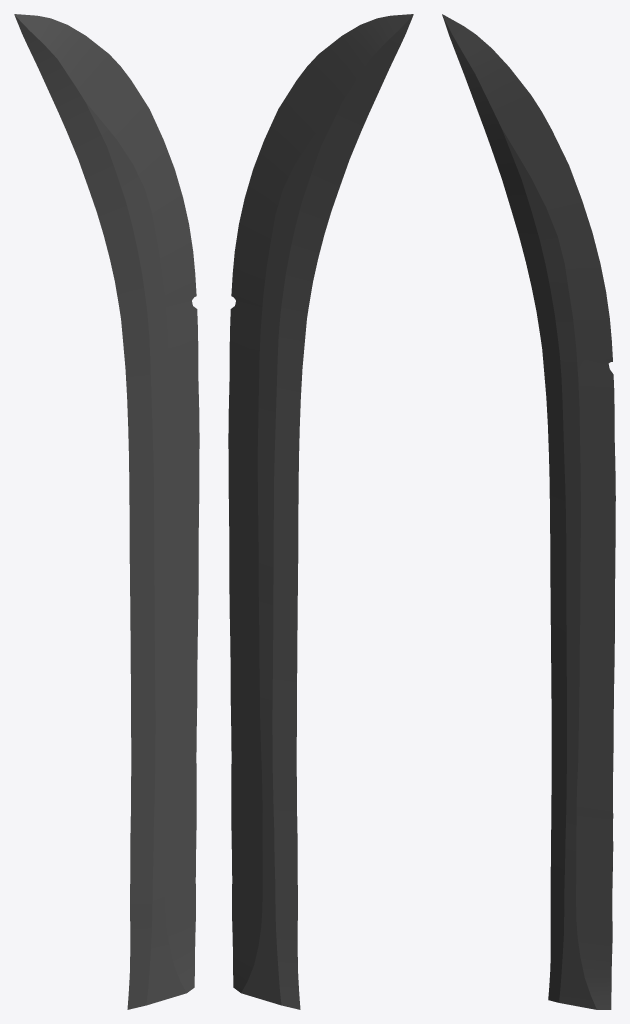
The model's file is easterling_sword_blade.fbx.
3 views of the same model, side by side, from view 1: azimuth 30°, elevation 25°; view 2: azimuth 150°, elevation 25°; view 3: azimuth 330°, elevation 25° (orthographic). The views are drawn at different scales.
Visible parts, largest first — view 1: easterling_sword_blade; view 2: easterling_sword_blade; view 3: easterling_sword_blade.
Part boxes in pixels (x1,y1,x2,y2): easterling_sword_blade: (14,14,199,1009); easterling_sword_blade: (228,14,413,1009); easterling_sword_blade: (442,14,615,1009).
Size of the model in its own units: 0.2096 by 0.0162 by 1.11.
1 material, 1 textured.
